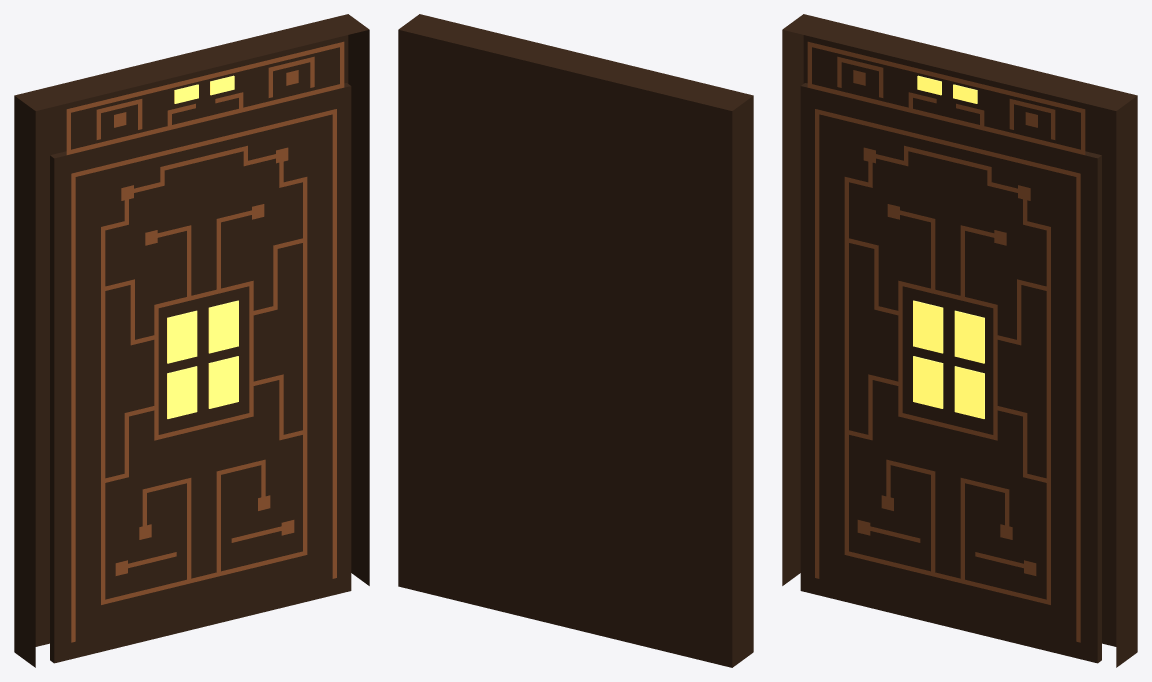
Rendered from circuit_door.glb.
3 renders of one model, left to right at view 1: azimuth 30°, elevation 25°; view 2: azimuth 150°, elevation 25°; view 3: azimuth 330°, elevation 25°, orthographic.
Parts seen in each view (by area): view 1: circuit_door; view 2: circuit_door; view 3: circuit_door.
Part boxes in pixels (x1,y1,x2,y2): circuit_door: (14, 14, 369, 667); circuit_door: (398, 14, 753, 667); circuit_door: (782, 14, 1137, 667).
Bounding box in the file's own units: 2.7 × 4.3 × 0.35.
